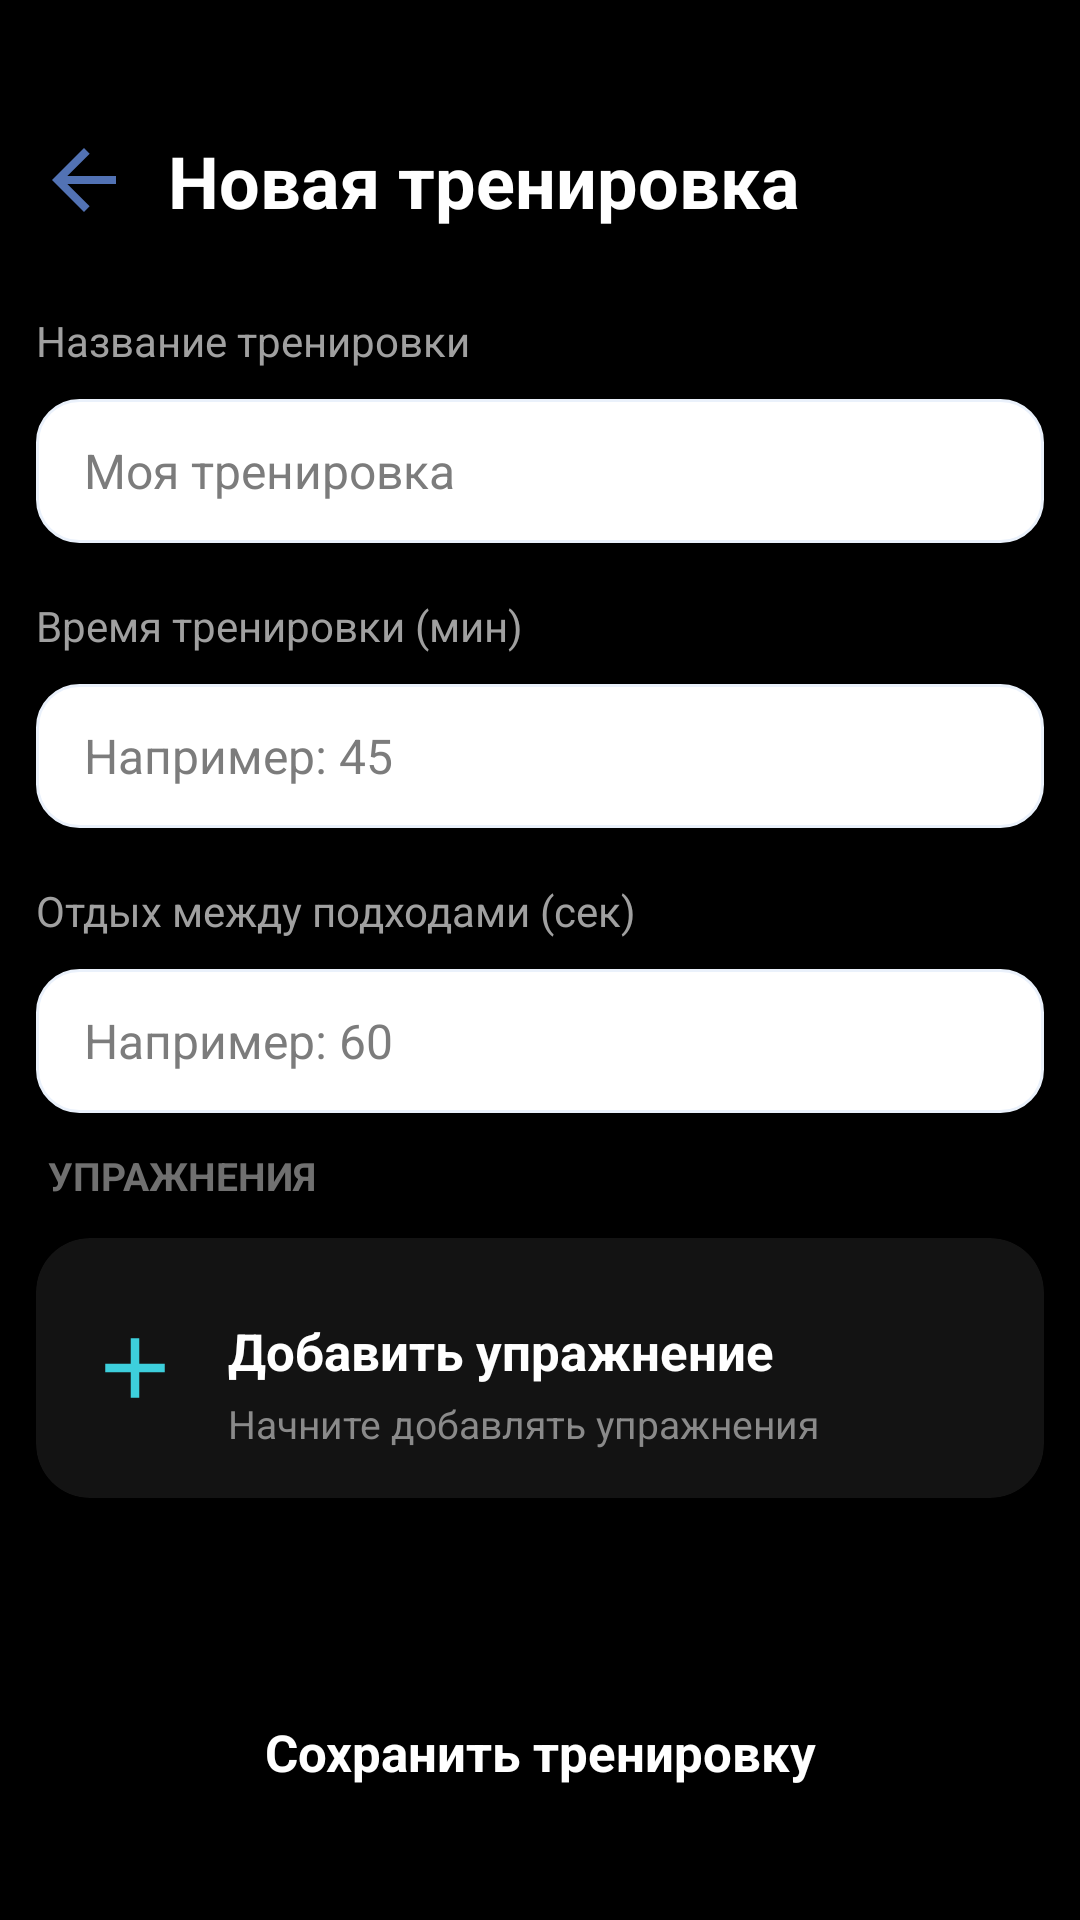

Icon bounding boxes for this 1080px×1920px phone screenshot, format (x1, y1, x2, y2):
add: (105, 1338, 165, 1398)
arrow back: (52, 148, 116, 212)
